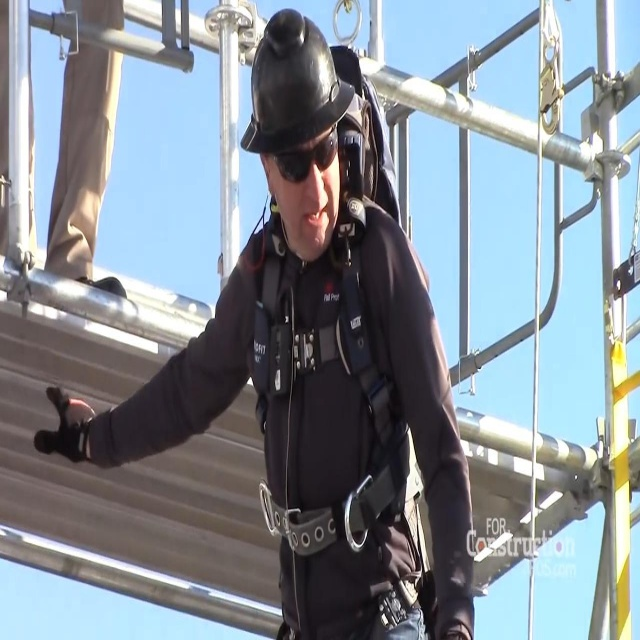Arnes_seguridad: (242, 45, 430, 640)
